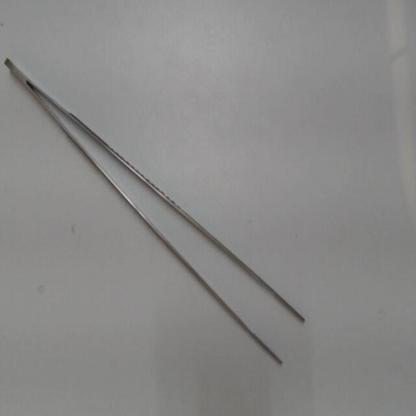DeBakey Dissector: (2, 47, 321, 380)
